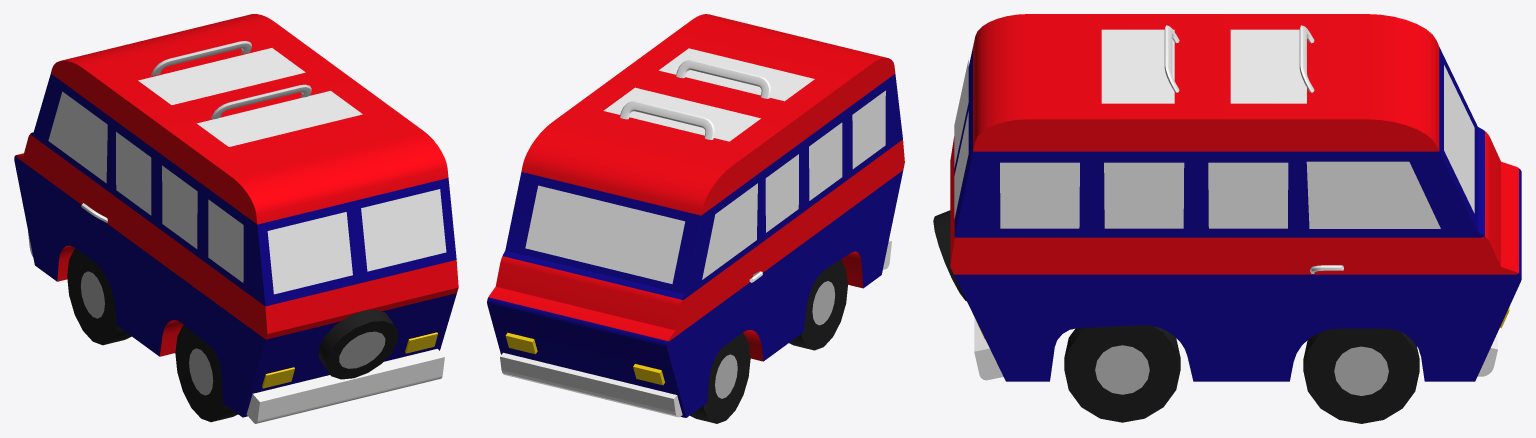
File: армения_дляигры.fbx
3 views of the same model, side by side, from view 1: azimuth 30°, elevation 25°; view 2: azimuth 150°, elevation 25°; view 3: azimuth 270°, elevation 25° (orthographic). The views are drawn at different scales.
Parts seen in each view (by area): view 1: Cube, Plane.007, Cube.002, Plane.004, Plane.003, Plane, Plane.001, Cylinder.006, Cylinder.001, Cylinder, Plane.002, Cylinder.005 (+3 smaller); view 2: Cube, Plane.005, Plane.007, Cube.001, Plane, Cylinder.001, Cylinder, Plane.001, Plane.002, Cylinder.004, Cylinder.005, Cube.003 (+1 smaller); view 3: Cube, Plane.007, Cylinder, Cylinder.001, Plane.002, Plane, Plane.001, Plane.005, Cube.002, Cylinder.006, Plane.004, Plane.003 (+2 smaller).
Part boxes in pixels (bbox=[...]): Cube: bbox=[14, 14, 458, 417]; Plane.007: bbox=[116, 132, 243, 282]; Cube.002: bbox=[246, 349, 444, 423]; Plane.004: bbox=[361, 189, 446, 271]; Plane.003: bbox=[267, 212, 352, 294]; Plane: bbox=[138, 48, 305, 104]; Plane.001: bbox=[197, 90, 362, 146]; Cylinder.006: bbox=[318, 309, 398, 379]; Cylinder.001: bbox=[67, 248, 131, 345]; Cylinder: bbox=[175, 325, 237, 422]; Plane.002: bbox=[48, 91, 107, 183]; Cylinder.005: bbox=[211, 84, 311, 119]; Cube: bbox=[487, 14, 904, 417]; Plane.005: bbox=[525, 185, 685, 283]; Plane.007: bbox=[765, 90, 885, 232]; Cube.001: bbox=[500, 352, 682, 417]; Plane: bbox=[603, 87, 760, 141]; Cylinder.001: bbox=[690, 332, 750, 423]; Cylinder: bbox=[789, 259, 847, 350]; Plane.001: bbox=[659, 48, 814, 101]; Plane.002: bbox=[702, 183, 757, 279]; Cylinder.004: bbox=[620, 101, 714, 139]; Cylinder.005: bbox=[676, 59, 770, 98]; Cube.003: bbox=[505, 332, 537, 354]; Cube: bbox=[950, 14, 1521, 381]; Plane.007: bbox=[1000, 162, 1288, 228]; Cylinder: bbox=[1064, 325, 1180, 422]; Cylinder.001: bbox=[1303, 328, 1419, 423]; Plane.002: bbox=[1306, 161, 1440, 228]; Plane: bbox=[1230, 29, 1306, 103]; Plane.001: bbox=[1101, 29, 1174, 103]; Plane.005: bbox=[1444, 65, 1474, 213]; Cube.002: bbox=[974, 317, 1003, 380]; Cylinder.006: bbox=[933, 210, 966, 300]; Plane.004: bbox=[954, 111, 968, 219]; Plane.003: bbox=[954, 60, 968, 167].
Size of the model in its own units: 134 by 172 by 279.
